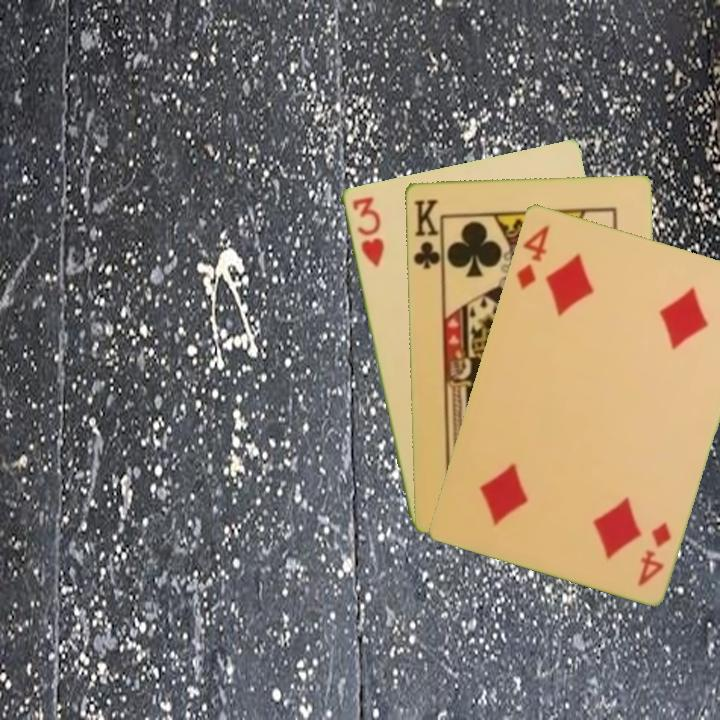3h: (348, 193, 387, 270)
4d: (512, 220, 552, 292), (634, 517, 674, 588)
Kc: (410, 195, 444, 274)
